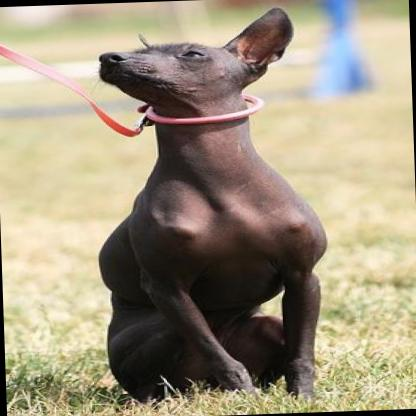Mexican_hairless: (78, 0, 331, 416)
